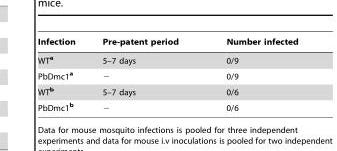table: (37, 37, 297, 112)
table column: (88, 37, 201, 112), (201, 37, 297, 112), (37, 37, 88, 112)
table column header: (37, 37, 297, 50)
table row: (37, 50, 297, 67), (37, 67, 297, 83), (37, 83, 297, 99), (37, 37, 297, 50), (37, 99, 297, 112)
